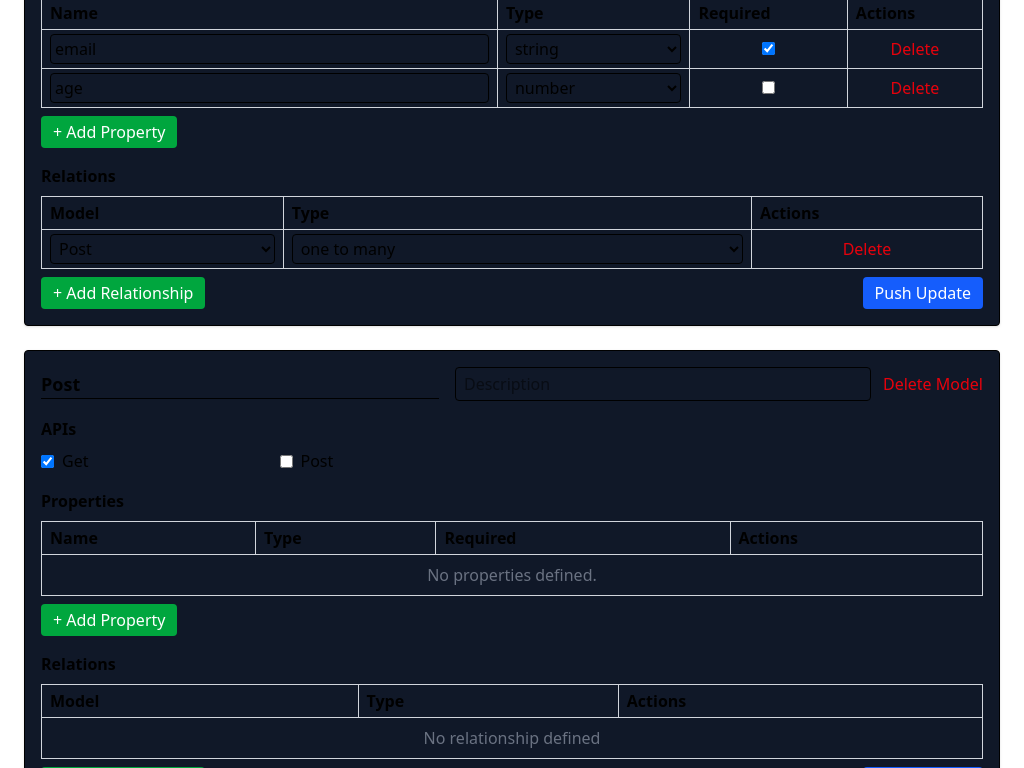
Scenario: adding and deleting models › removes a deleted model
This screenshot has width=1024, height=768.
(page scrolled)
Click the button "Delete Model" at (933, 384), box 883,372 -> 983,396
(page scrolled)
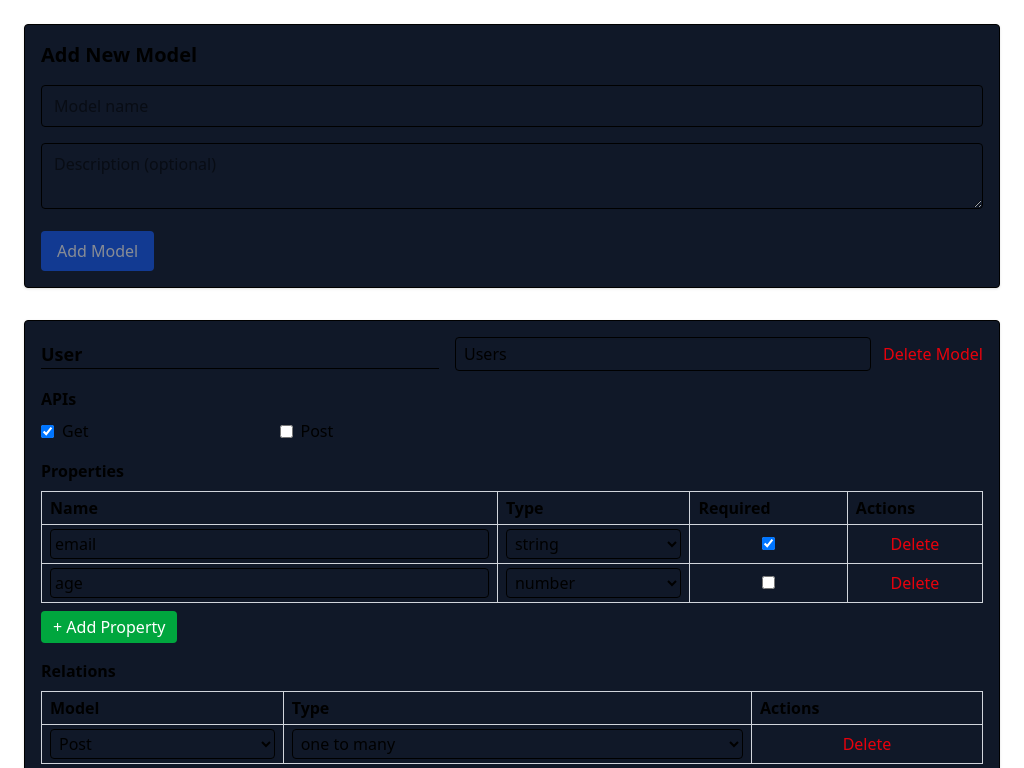
Expected: the 1st field showing "User" is shown, 41,340 -> 439,368
Result: the number of fields with placeholder "Model Name" is 2
Result: the text "No relationship defined" is gone
